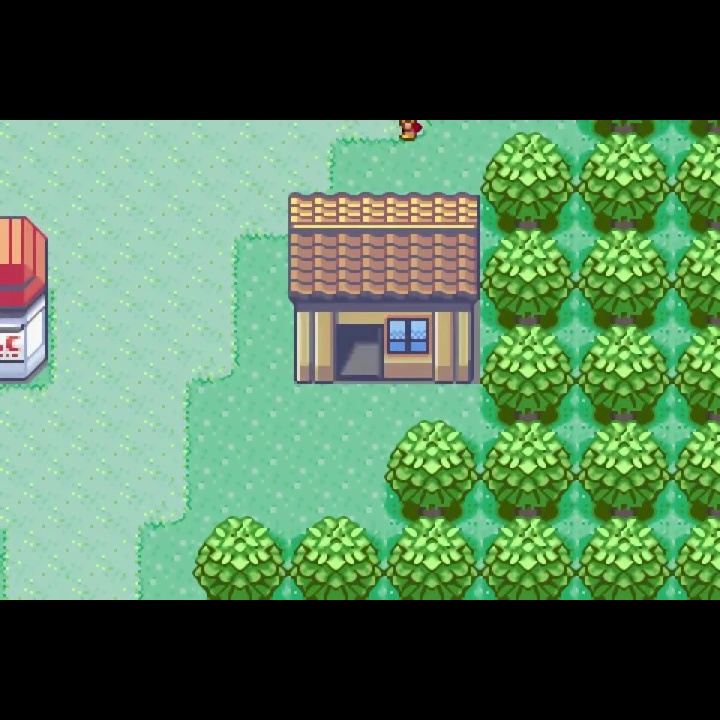house: (283, 188, 482, 387)
pokecen: (1, 214, 50, 389)
wall: (383, 420, 480, 526), (576, 323, 673, 428), (482, 228, 577, 333), (575, 228, 672, 330), (576, 421, 673, 523), (482, 420, 577, 523), (483, 324, 576, 426), (480, 132, 576, 230), (576, 133, 672, 231), (575, 511, 673, 599), (191, 514, 289, 599), (289, 513, 384, 600), (384, 513, 480, 599), (482, 513, 575, 600), (673, 323, 720, 429), (673, 228, 720, 331), (673, 421, 720, 524), (672, 134, 720, 231), (674, 513, 720, 599), (575, 121, 672, 144), (672, 120, 720, 145)
